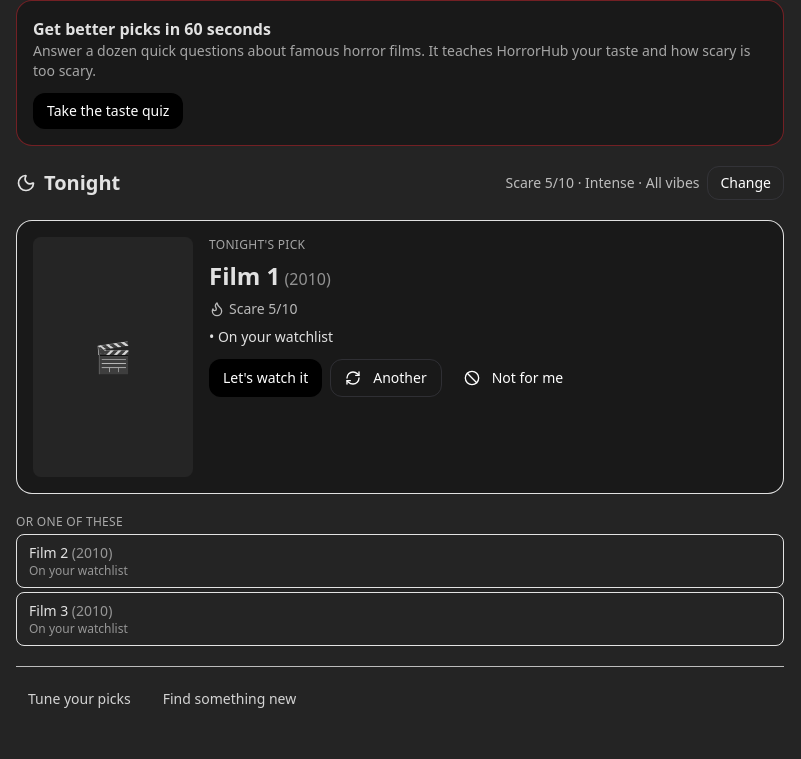
Test: Tonight › keeps the dials behind one line until you ask
Click the button "Change".
click(746, 183)  # box [708,166,784,200]
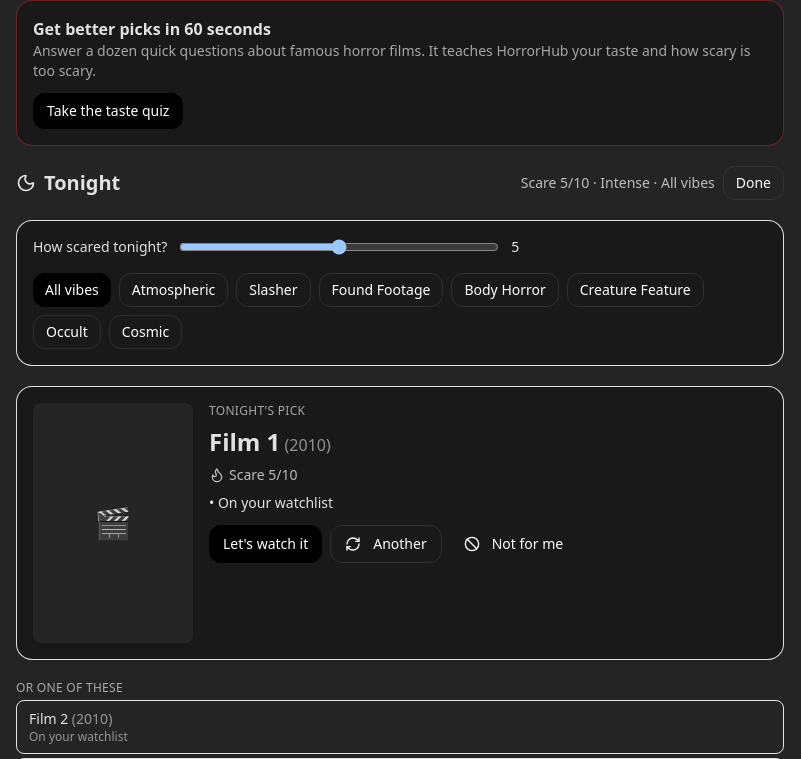
Expected: the slider named "How scared" is shown, [179,239,499,255]
